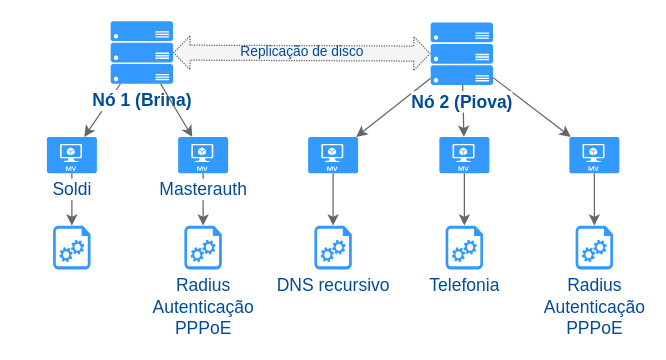
Some shapes in this 666 by 360 pixel diagram are drawn without their labels. The centre of each missing label's shape, as x and y in pixels:
Passata: pixel 333 154
SimplesIP: pixel 464 154
Sistemas de gestão: pixel 71 247
Speedauth: pixel 594 154
